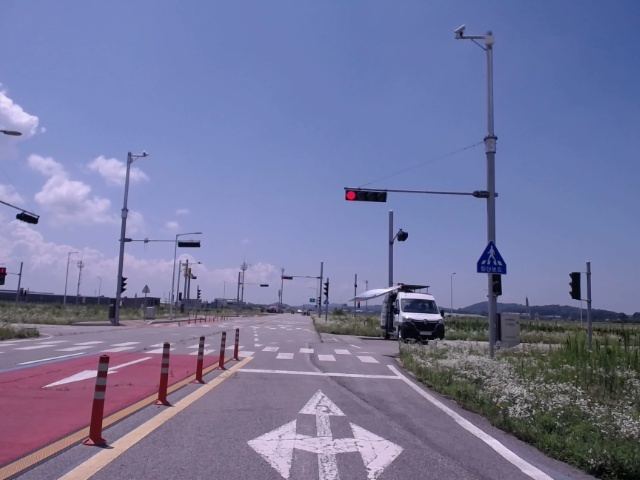red_4: (344, 189, 387, 203)
